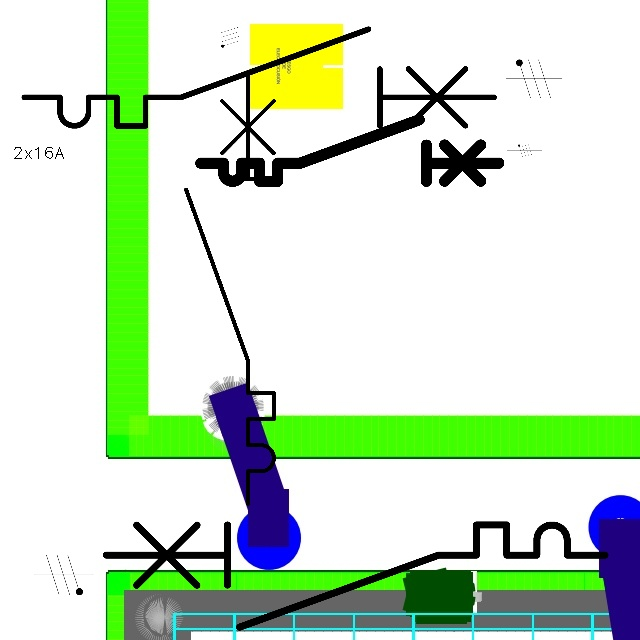interruptor_termomagnetico: (93, 512, 618, 640), (12, 17, 506, 138), (175, 64, 285, 515), (193, 112, 507, 189)
